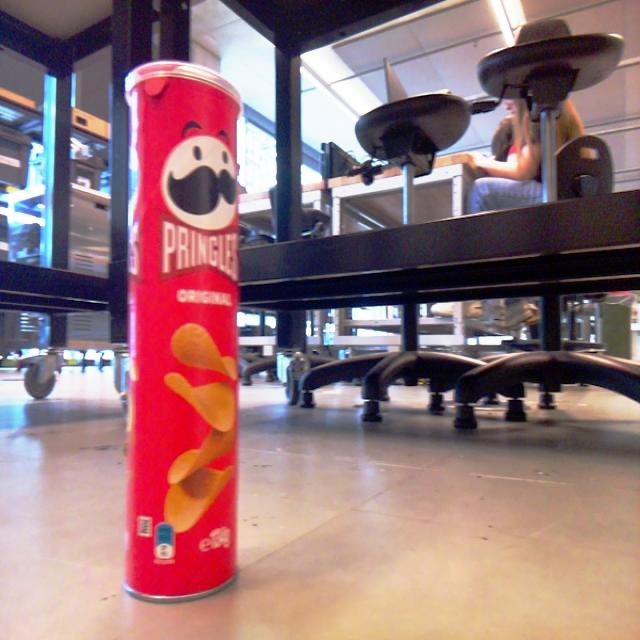redpringles: (111, 40, 256, 613)
